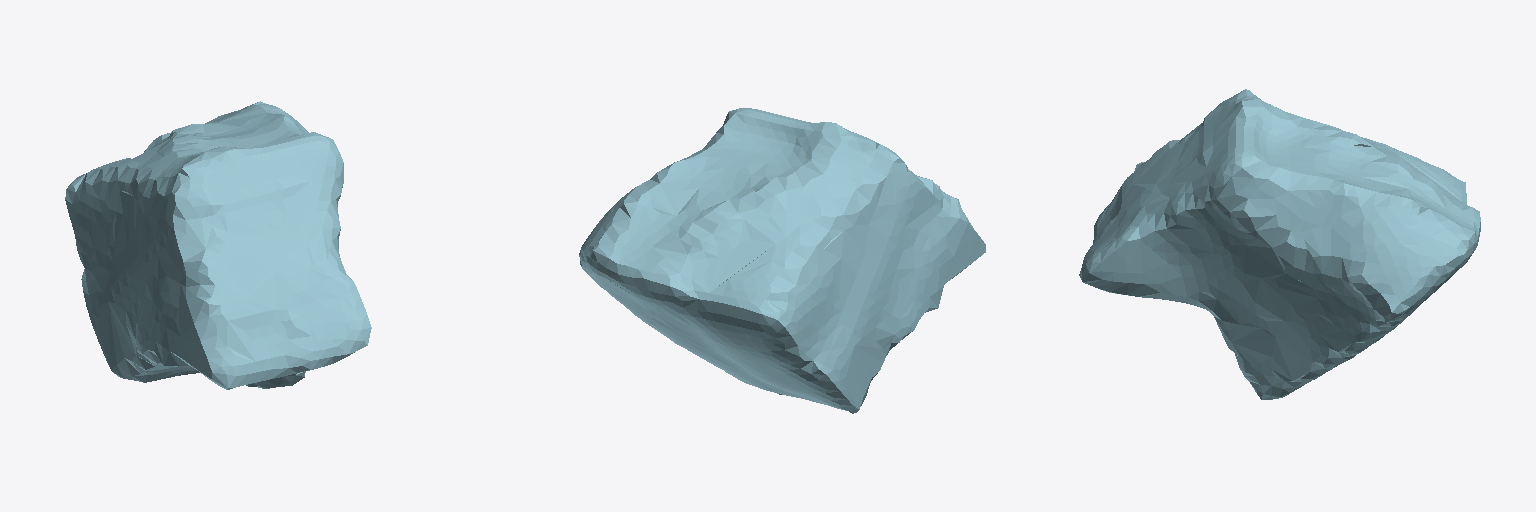
The model's file is Model_10135_LH__Temporal_area_TL_(TL).obj.
3 views of the same model, side by side, from view 1: azimuth 30°, elevation 25°; view 2: azimuth 150°, elevation 25°; view 3: azimuth 270°, elevation 25° (orthographic).
Bounding box in the file's own units: 2.09 × 1.97 × 2.74.